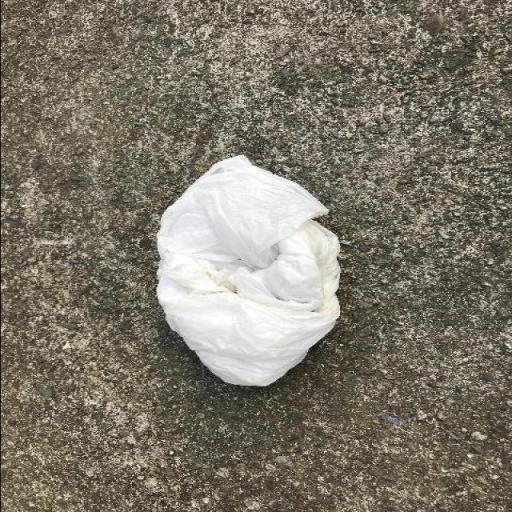plastic-bag: (154, 156, 344, 392)
